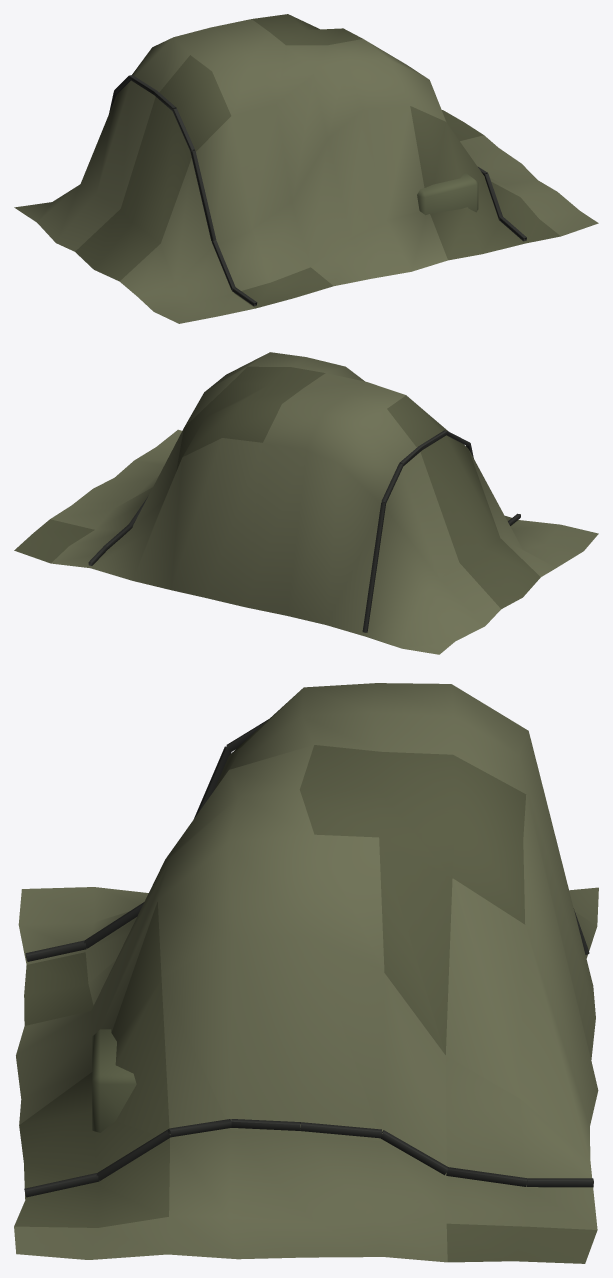
The model's file is tarp_0.glb.
3 renders of one model, top to bottom at view 1: azimuth 30°, elevation 25°; view 2: azimuth 150°, elevation 25°; view 3: azimuth 270°, elevation 25°, orthographic. The views are drawn at different scales.
Visible parts, largest first — view 1: tarp_0; view 2: tarp_0; view 3: tarp_0.
Part boxes in pixels (x1,y1,x2,y2): tarp_0: (14,14,598,323); tarp_0: (14,352,598,654); tarp_0: (14,683,598,1263).
Size of the model in its own units: 1.32 by 0.5351 by 0.8683.
1 material, 1 textured.
